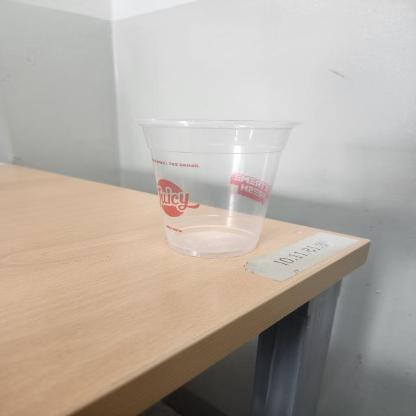Plastic Cup: (136, 116, 304, 260)
